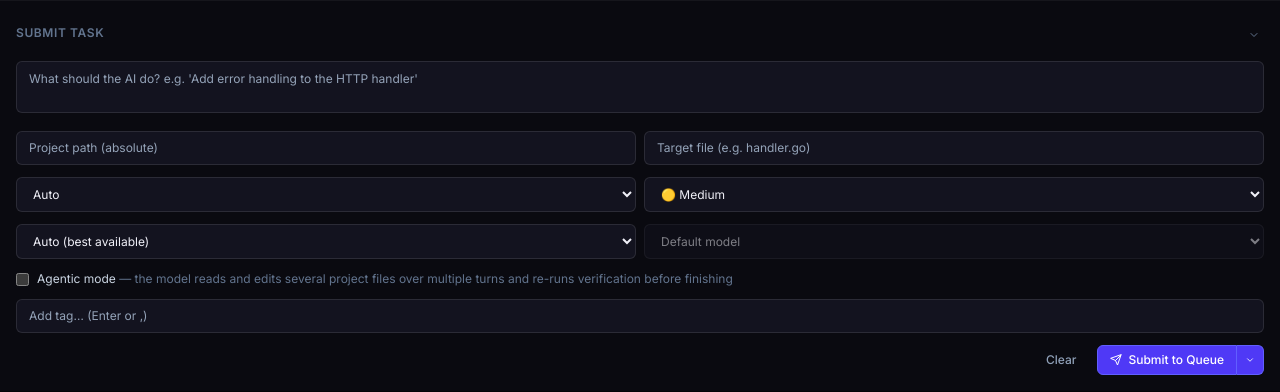
Test: TaskSubmitForm — chrome › Clear resets every field
Replace the text in the text box named "Instruction" with "x": (640, 87) [16,61,1264,113]
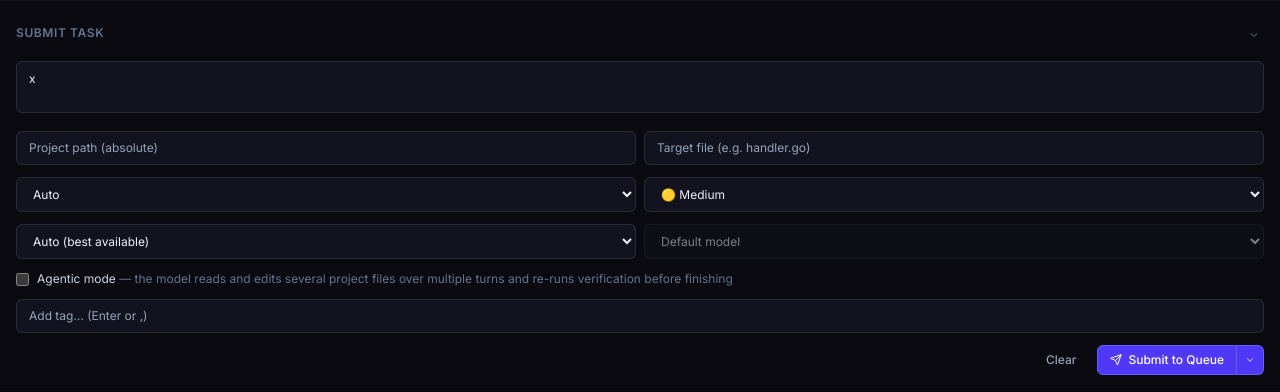
In the field with placeholder "Project path (absolute)": (326, 148) [16,131,636,165], type "/p"
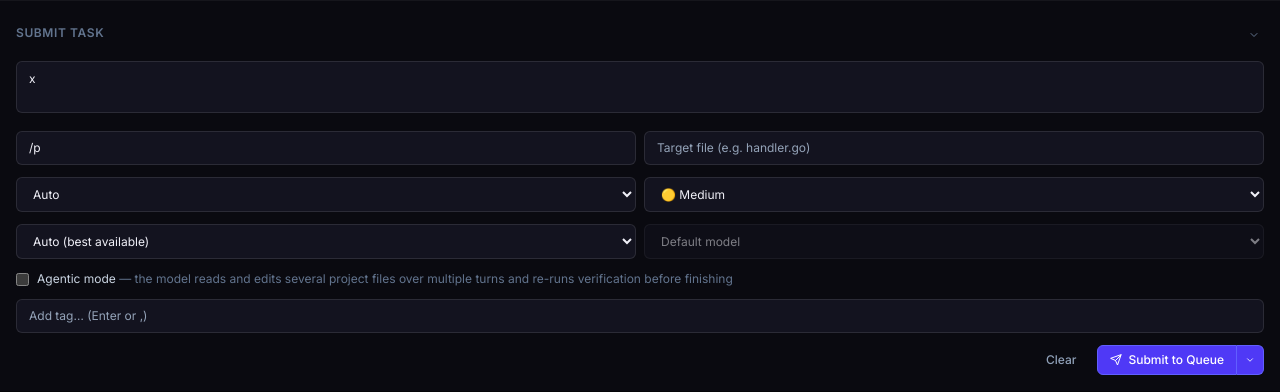
In the field with placeholder "Add tag… (Enter or ,)": (640, 316) [16,299,1264,333], type "t"
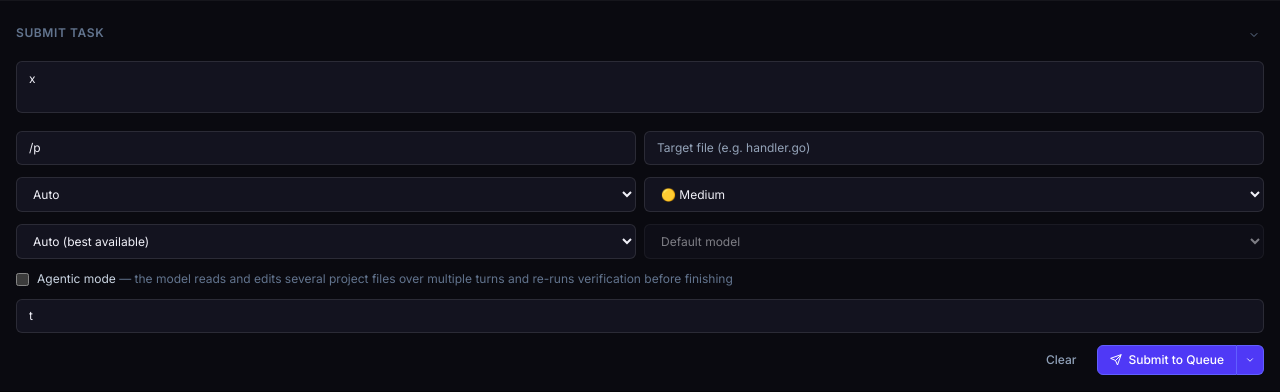
Click the button "Clear": (1061, 360) [1033,345,1090,375]
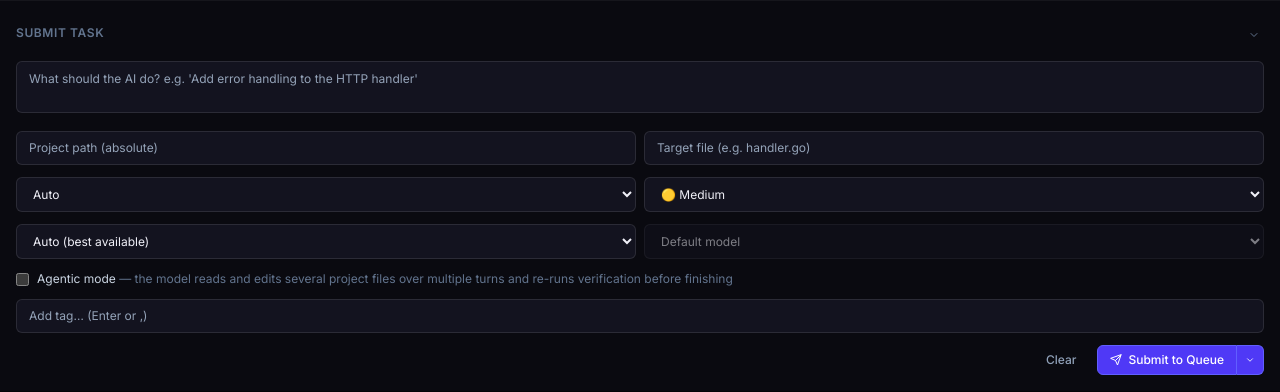
expect the text box named "Instruction" is empty: met, box [16,61,1264,113]
